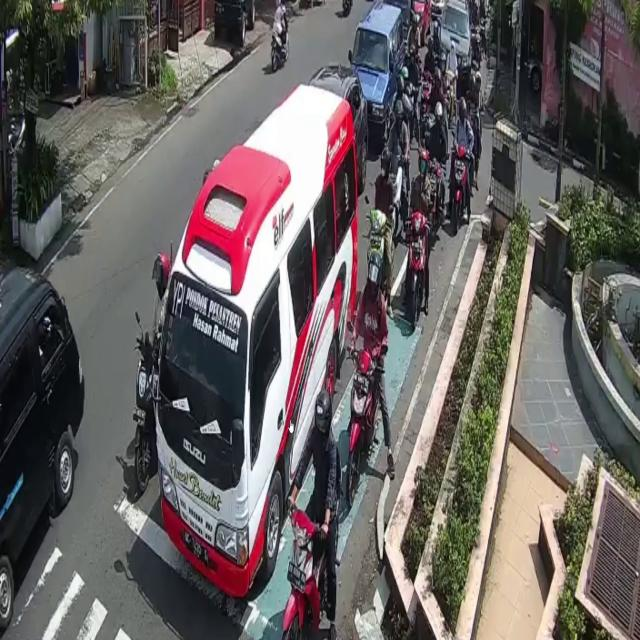bus: (285, 501, 332, 640), (349, 347, 380, 502), (134, 344, 159, 492), (363, 209, 390, 312), (409, 216, 427, 329), (452, 143, 468, 227), (272, 25, 291, 69)
car: (157, 82, 358, 594)
motorcycle: (0, 263, 87, 624), (351, 0, 407, 144), (312, 62, 370, 184), (438, 0, 474, 94)
